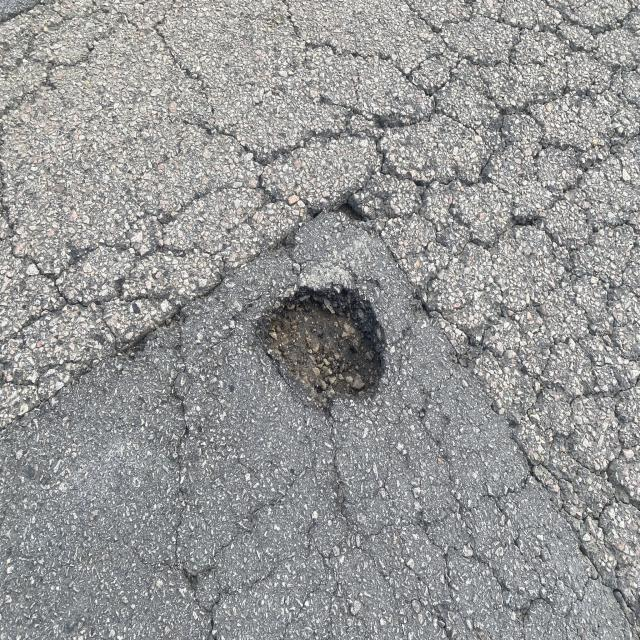pothole: (227, 175, 451, 510)
